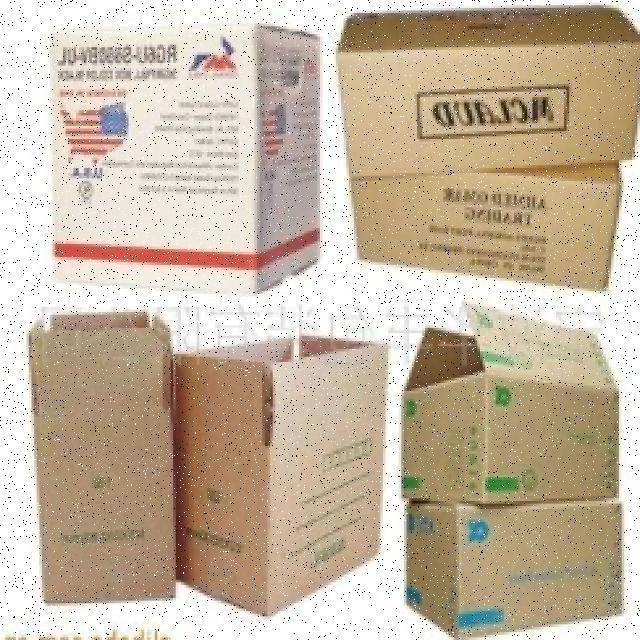box: (13, 0, 333, 299), (162, 320, 395, 630), (21, 294, 176, 620), (342, 6, 632, 172), (396, 319, 610, 529), (342, 140, 629, 293), (393, 472, 638, 640)
